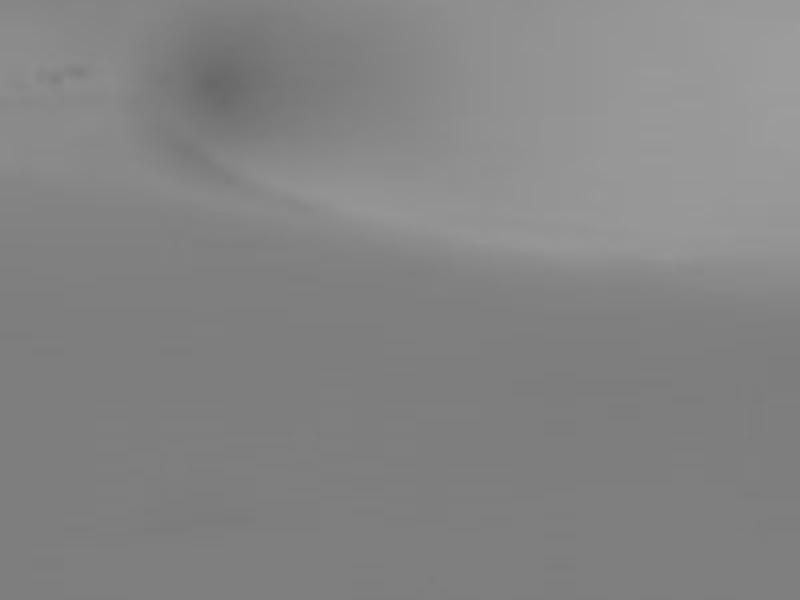defect: (44, 66, 65, 87), (64, 61, 86, 76)
